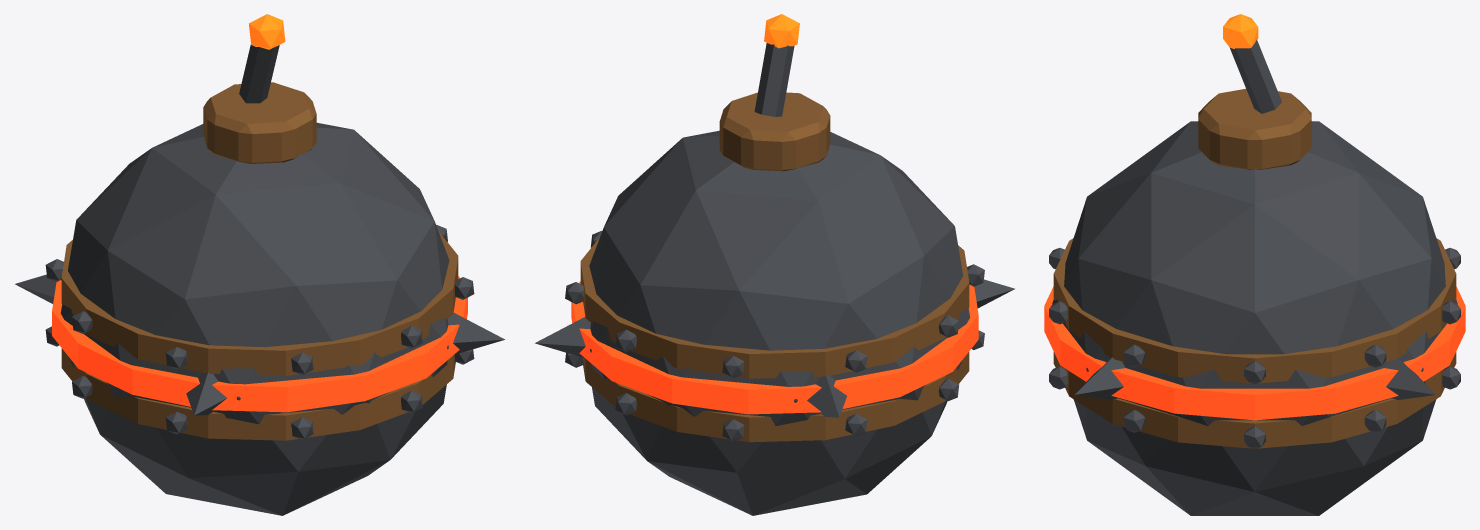
Rendered from projectile_mortar_bomb.glb.
3 renders of one model, left to right at view 1: azimuth 30°, elevation 25°; view 2: azimuth 150°, elevation 25°; view 3: azimuth 270°, elevation 25°, orthographic. The views are drawn at different scales.
Parts seen in each view (by area): view 1: Shell, RuneRing, Band_1, Band_-1, FuseCap, Fuse, Spike_3, Spike_2, Ember, Spike_1; view 2: Shell, RuneRing, Band_1, Band_-1, FuseCap, Fuse, Spike_0, Spike_1, Ember, Spike_2; view 3: Shell, RuneRing, Band_1, Band_-1, FuseCap, Fuse, Spike_0, Spike_3, Ember.
Part boxes in pixels (left/top/right/bottom): Shell: left=60, top=122, right=449, bottom=515; RuneRing: left=52, top=276, right=467, bottom=412; Band_1: left=61, top=231, right=458, bottom=375; Band_-1: left=61, top=348, right=455, bottom=440; FuseCap: left=203, top=82, right=316, bottom=163; Fuse: left=239, top=44, right=279, bottom=103; Spike_3: left=448, top=312, right=504, bottom=354; Spike_2: left=186, top=372, right=226, bottom=415; Ember: left=249, top=14, right=285, bottom=49; Spike_1: left=15, top=274, right=61, bottom=303; Shell: left=589, top=130, right=969, bottom=515; RuneRing: left=571, top=281, right=978, bottom=414; Band_1: left=580, top=237, right=969, bottom=378; Band_-1: left=583, top=352, right=969, bottom=442; FuseCap: left=719, top=92, right=830, bottom=171; Fuse: left=754, top=43, right=794, bottom=116; Spike_0: left=535, top=316, right=590, bottom=357; Spike_1: left=807, top=375, right=846, bottom=417; Ember: left=764, top=14, right=799, bottom=48; Spike_2: left=969, top=279, right=1014, bottom=308; Shell: left=1052, top=121, right=1457, bottom=515; RuneRing: left=1044, top=286, right=1465, bottom=420; Band_1: left=1053, top=238, right=1456, bottom=383; Band_-1: left=1053, top=352, right=1456, bottom=448; FuseCap: left=1198, top=88, right=1311, bottom=169; Fuse: left=1230, top=39, right=1281, bottom=113; Spike_0: left=1384, top=357, right=1435, bottom=400; Spike_3: left=1074, top=357, right=1125, bottom=400; Ember: left=1223, top=14, right=1258, bottom=48.
Size of the model in its own units: 0.5426 by 0.681 by 0.528.
